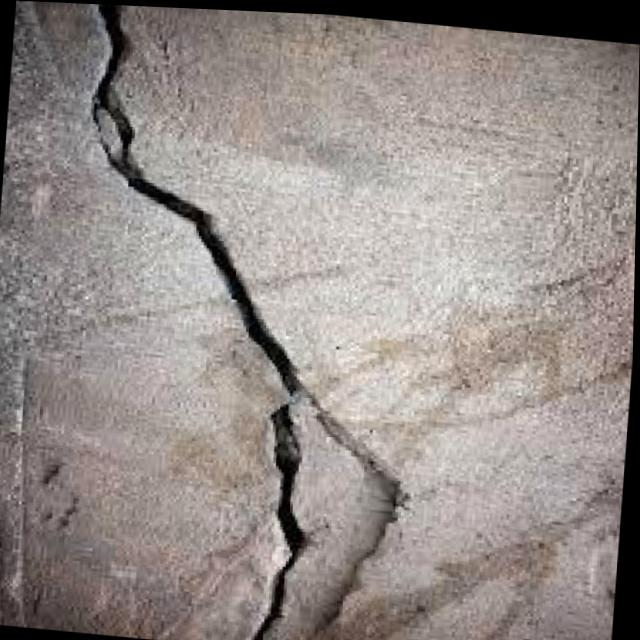Crack: (17, 1, 410, 636)
